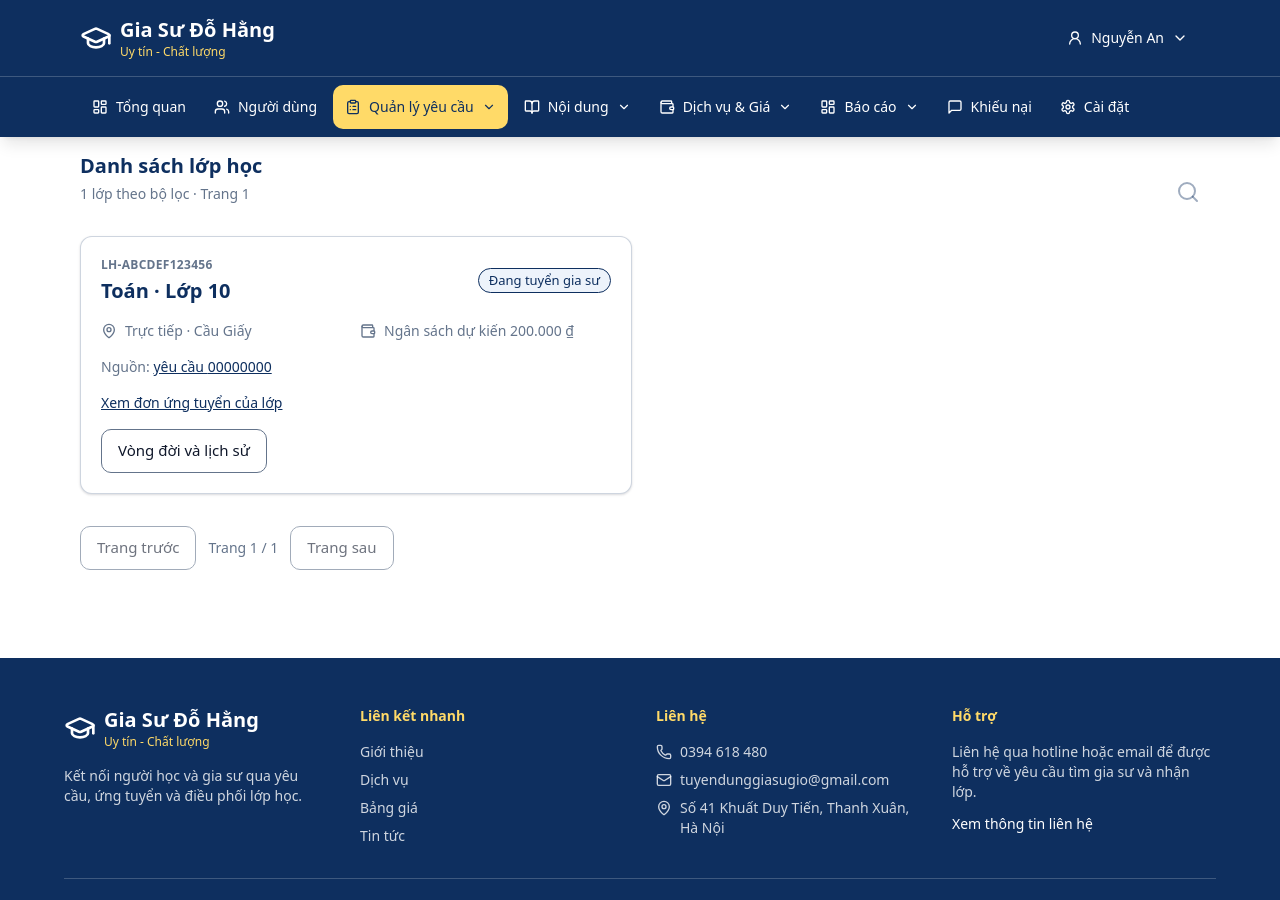
Test: class lifecycle routes › cancels only an open class with a recorded reason
(page scrolled)
Click the button "Vòng đời và lịch sử" at [184, 450], box [101,428,267,472]
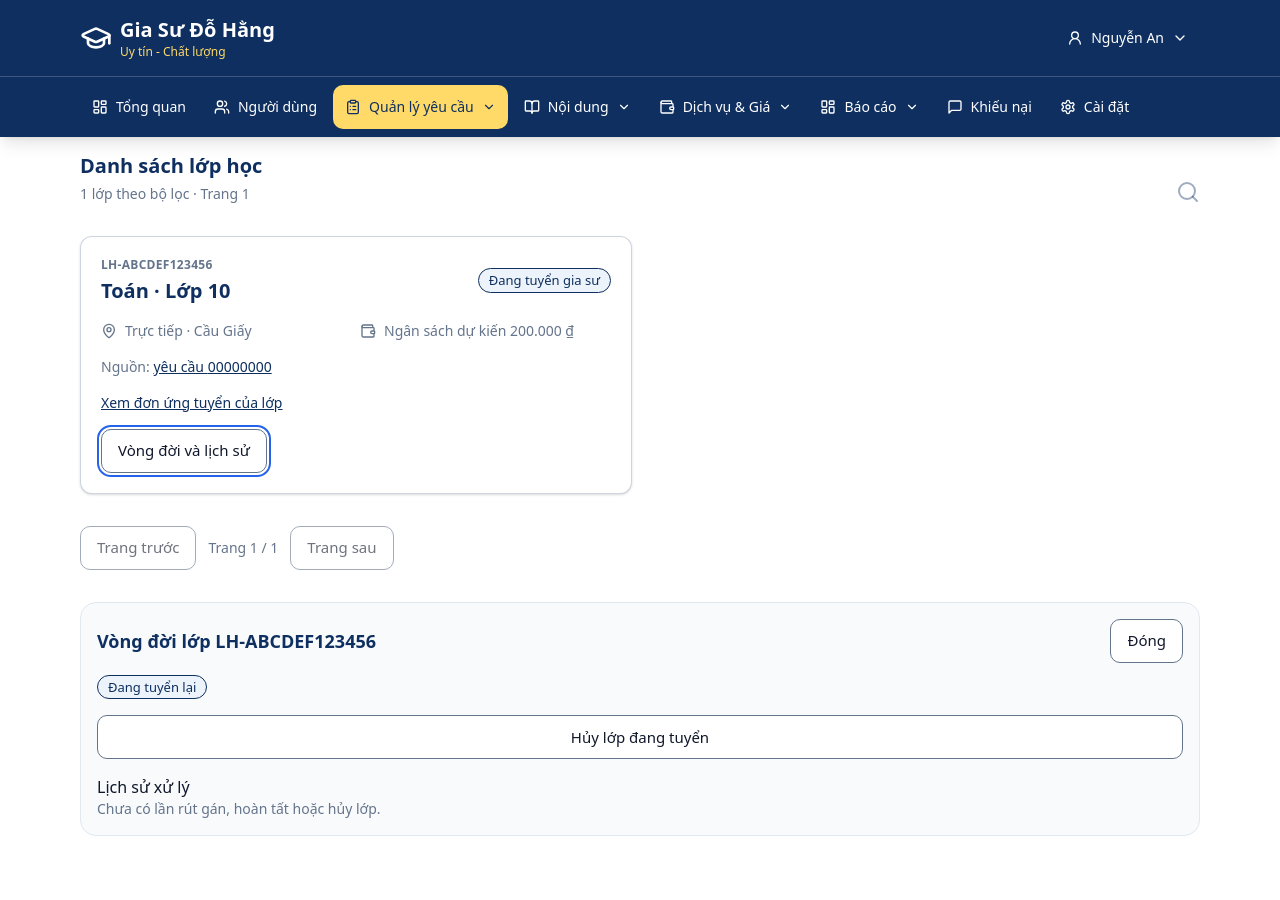
Click the button "Hủy lớp đang tuyển" at [640, 737], box [97,715,1183,759]
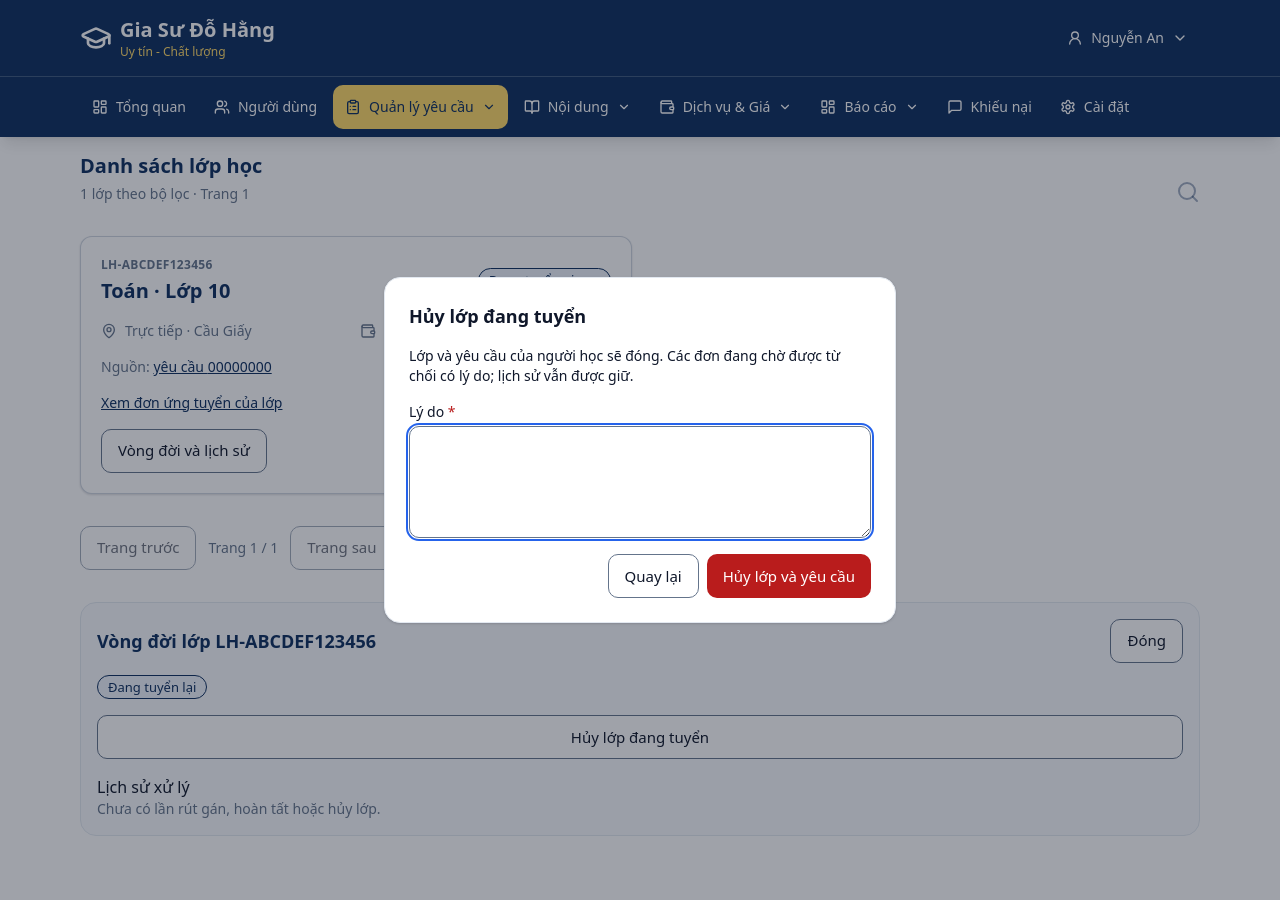
Type "Người học dừng tìm gia sư." into the text box labelled "Lý do" at [640, 482], box [409,426,871,538]
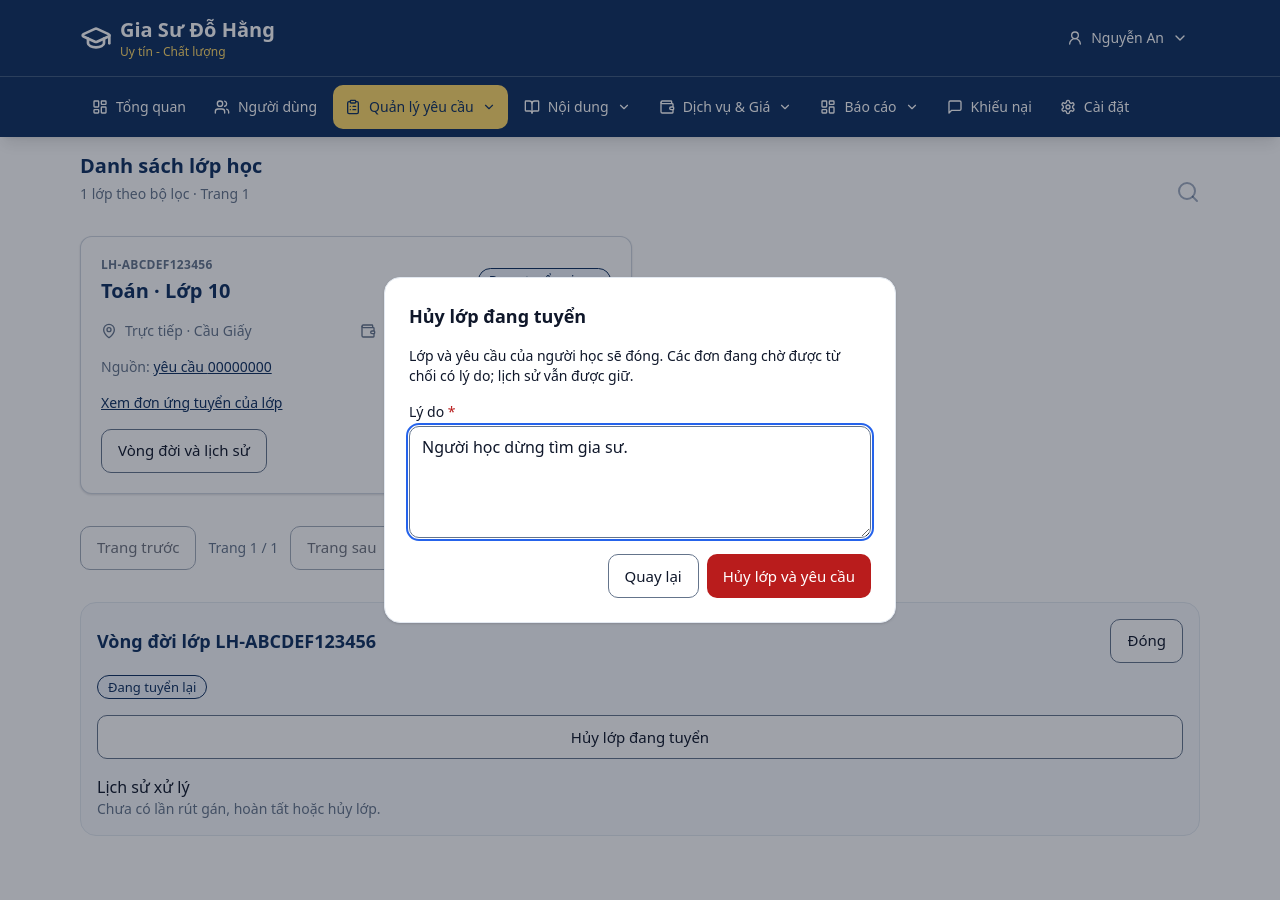
Click the button "Hủy lớp và yêu cầu" at [789, 576], box [707,554,871,598]
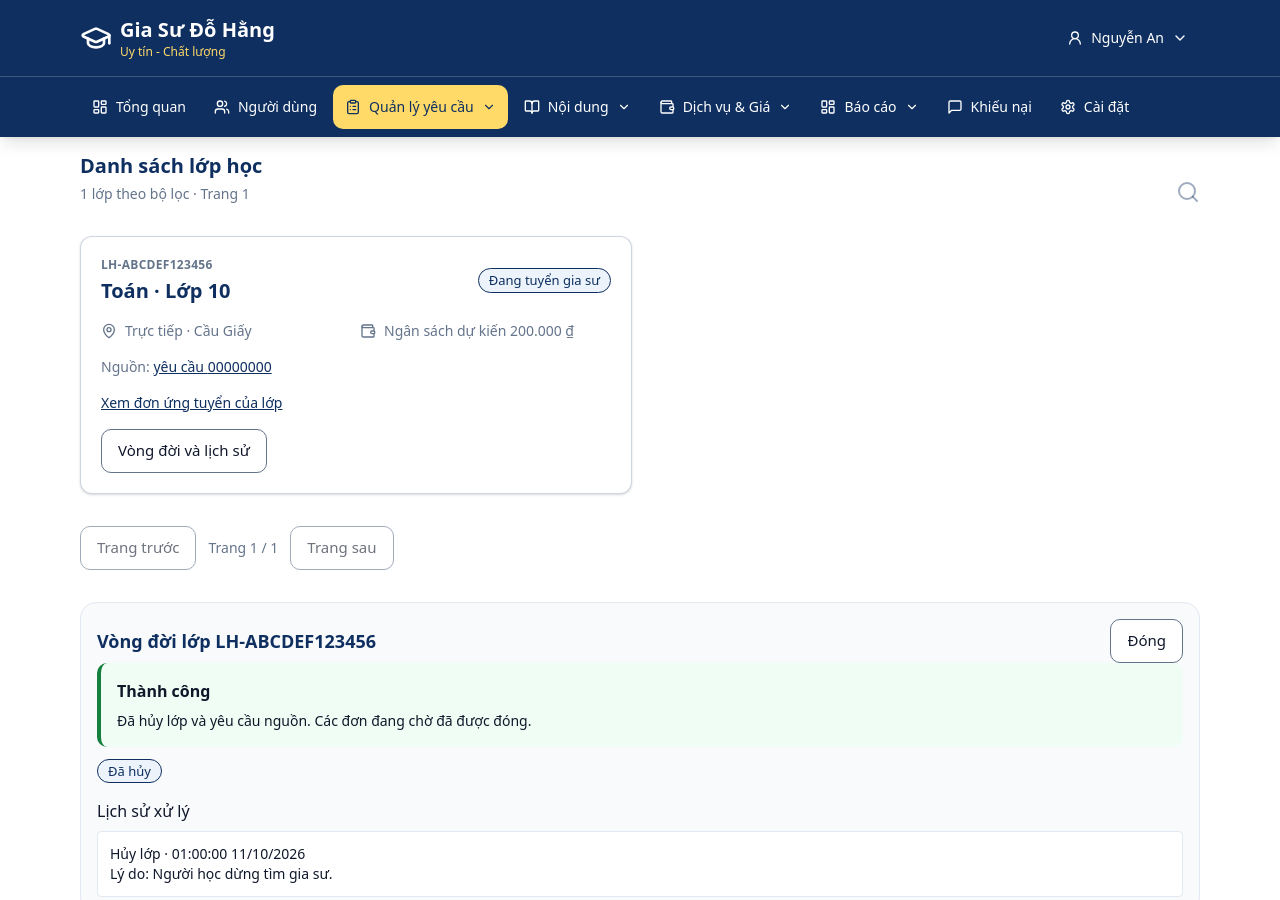
Now the text "Đã hủy lớp và yêu cầu nguồn. Các đơn đang chờ đã được đóng." is shown, box [117,710,532,730]
